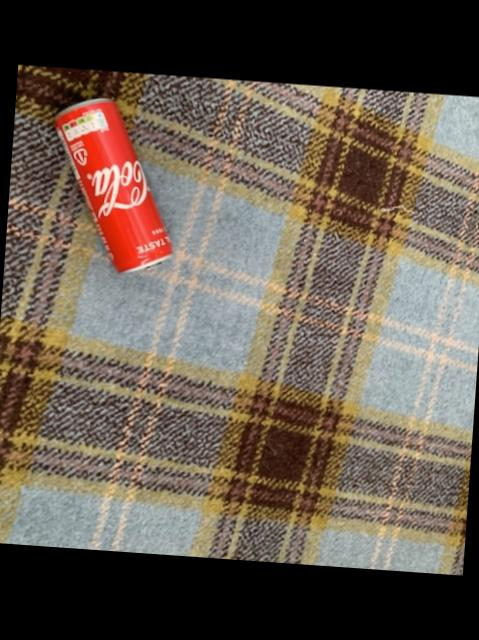metal: (51, 99, 168, 272)
